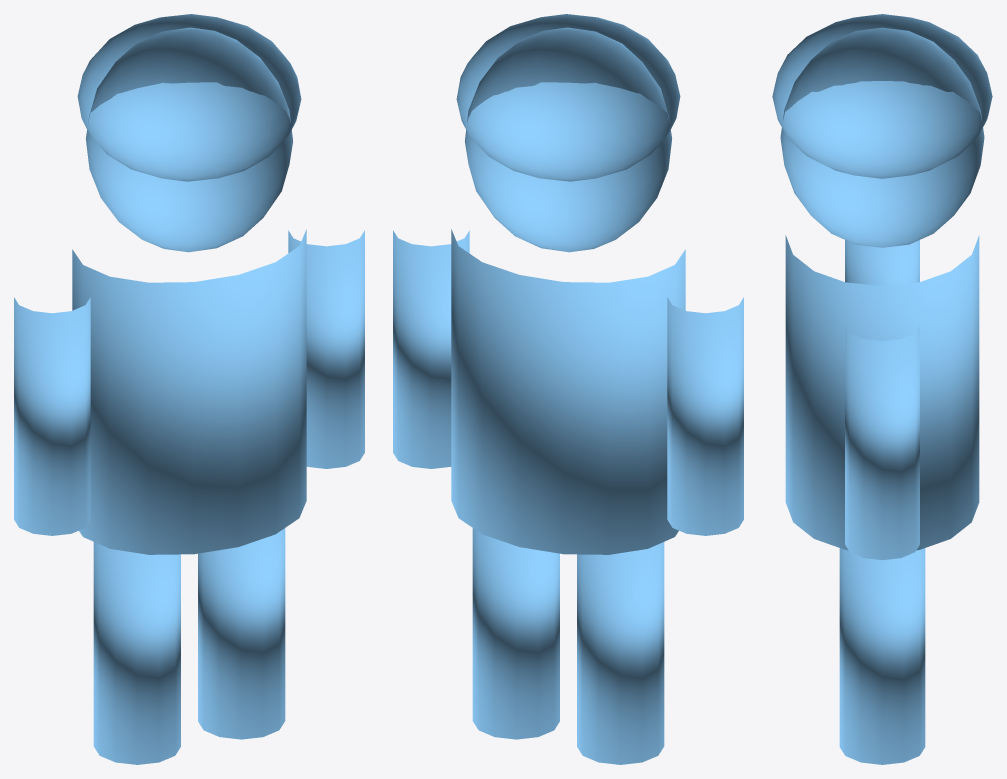
File: milo.glb
The picture shows the model from 3 angles, left to right: view 1: azimuth 30°, elevation 25°; view 2: azimuth 150°, elevation 25°; view 3: azimuth 270°, elevation 25°; orthographic projection.
Visible parts, largest first — view 1: YoungAdultMaleMesh; view 2: YoungAdultMaleMesh; view 3: YoungAdultMaleMesh.
Part boxes in pixels (<box>): YoungAdultMaleMesh: <box>14,14,364,764</box>; YoungAdultMaleMesh: <box>393,14,743,764</box>; YoungAdultMaleMesh: <box>772,14,992,764</box>.
Bounding box in the file's own units: 1.44 × 2.85 × 0.82.
